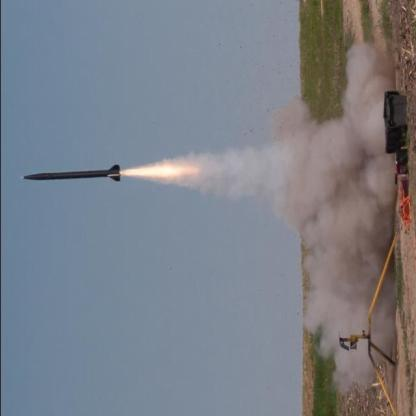MIL_TBM: (16, 162, 122, 185)
